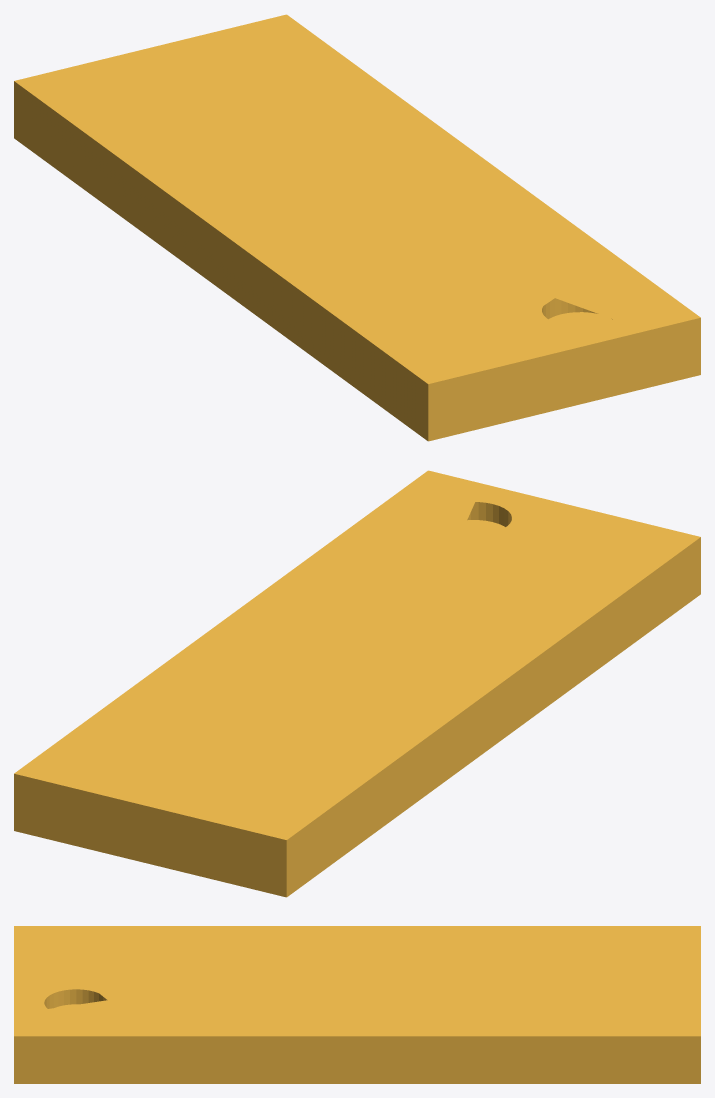
File: Part6_Floor.fbx
3 renders of one model, top to bottom at view 1: azimuth 30°, elevation 25°; view 2: azimuth 150°, elevation 25°; view 3: azimuth 270°, elevation 25°, orthographic. The views are drawn at different scales.
Visible parts, largest first — view 1: Floor; view 2: Floor; view 3: Floor.
Part boxes in pixels (left/top/right/bottom): Floor: left=14, top=14, right=700, bottom=441; Floor: left=14, top=470, right=700, bottom=897; Floor: left=14, top=926, right=700, bottom=1083.
Bounding box in the file's own units: 1000 × 201 × 2630.
